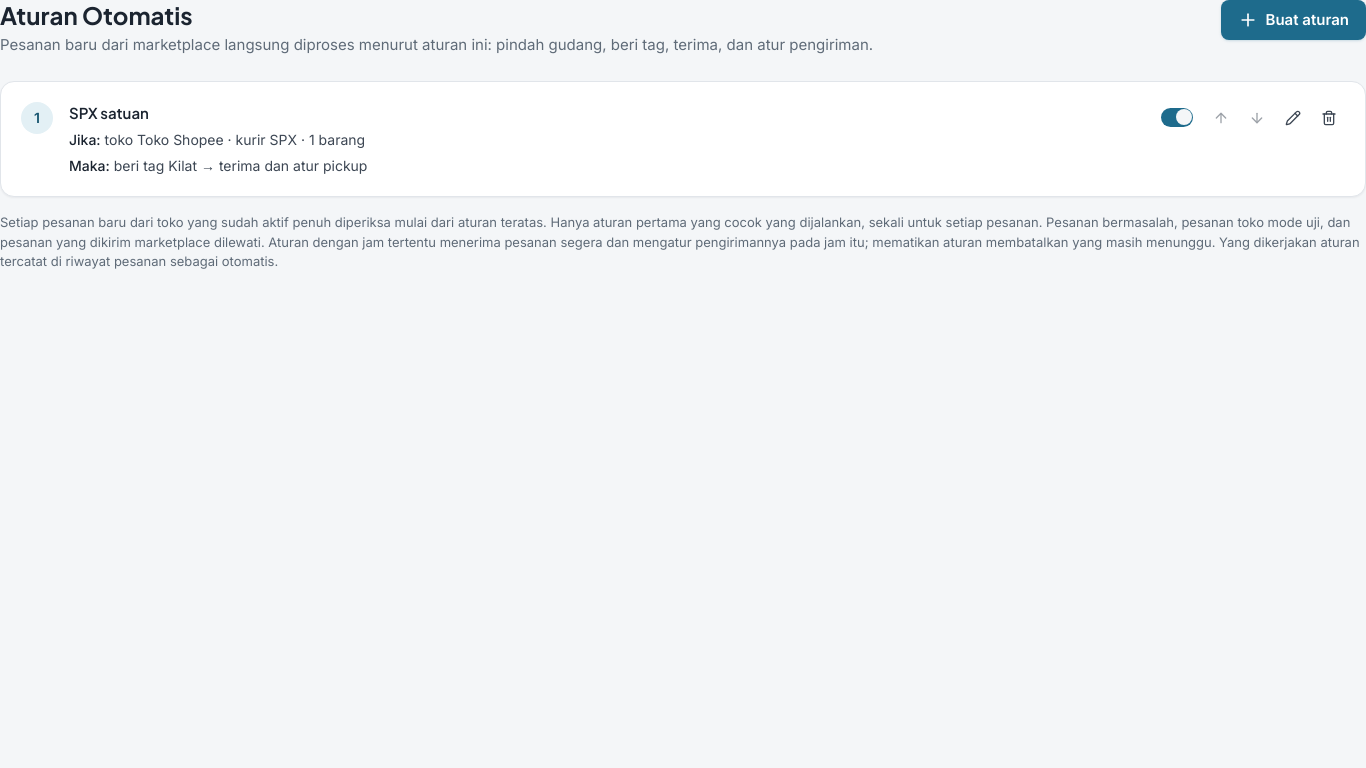
Test: Aturan Otomatis (L55) › shows the api's refusal under the field it names
The image size is (1366, 768).
Click the button named "Ubah aturan SPX satuan" at [1293, 118], box [1277,102,1309,134]
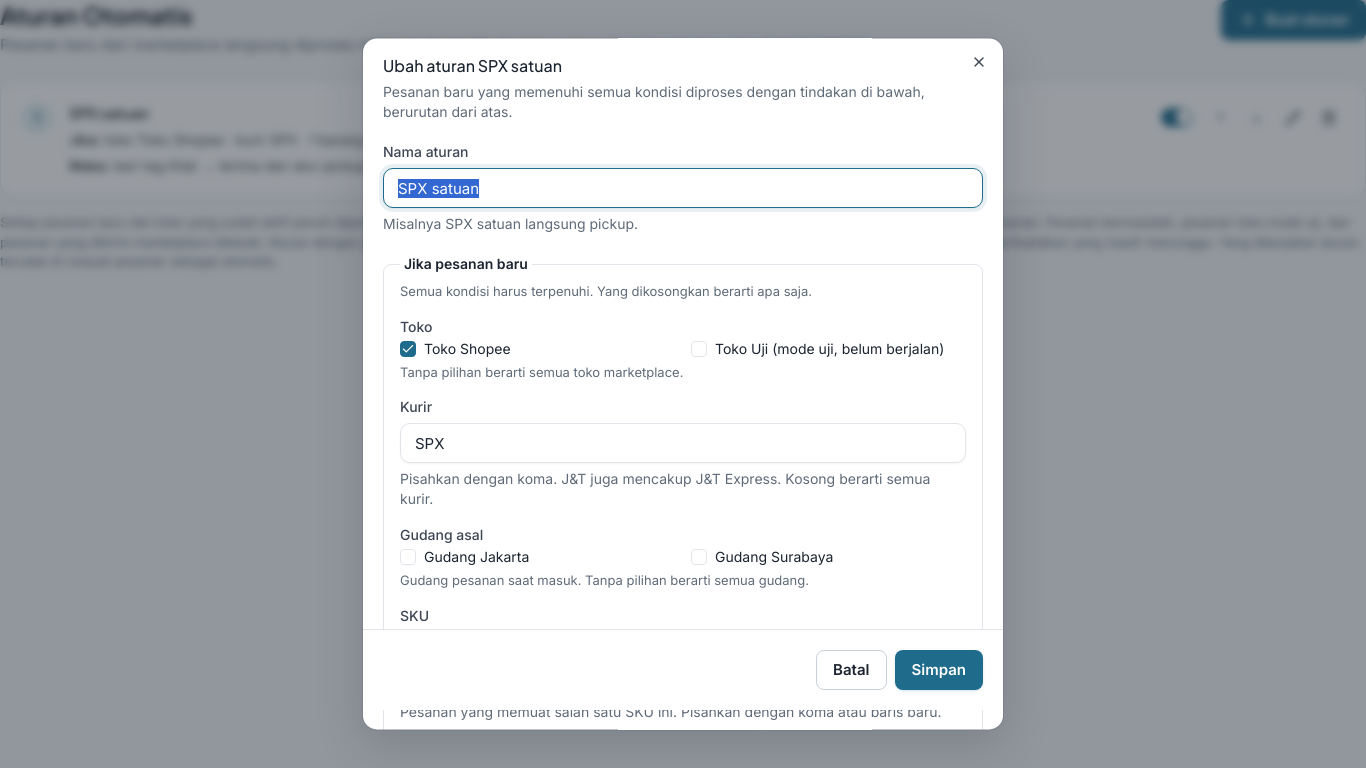
Expected: the field labelled "Nama aturan" holds "SPX satuan", [383,168,983,208]
Click the button "Simpan" at [939, 670], box [894,650,983,690]
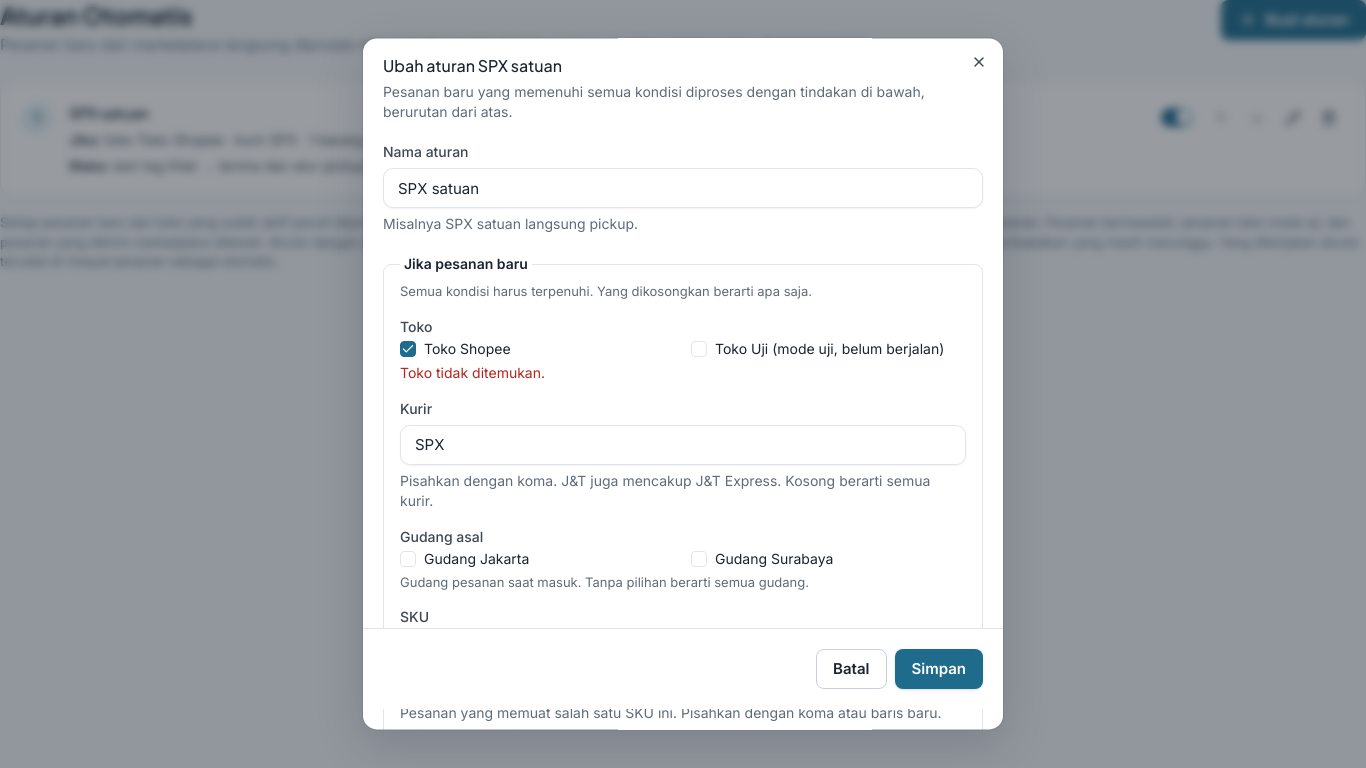
Expected: the message reads "Toko tidak ditemukan.", [400,364,545,381]
